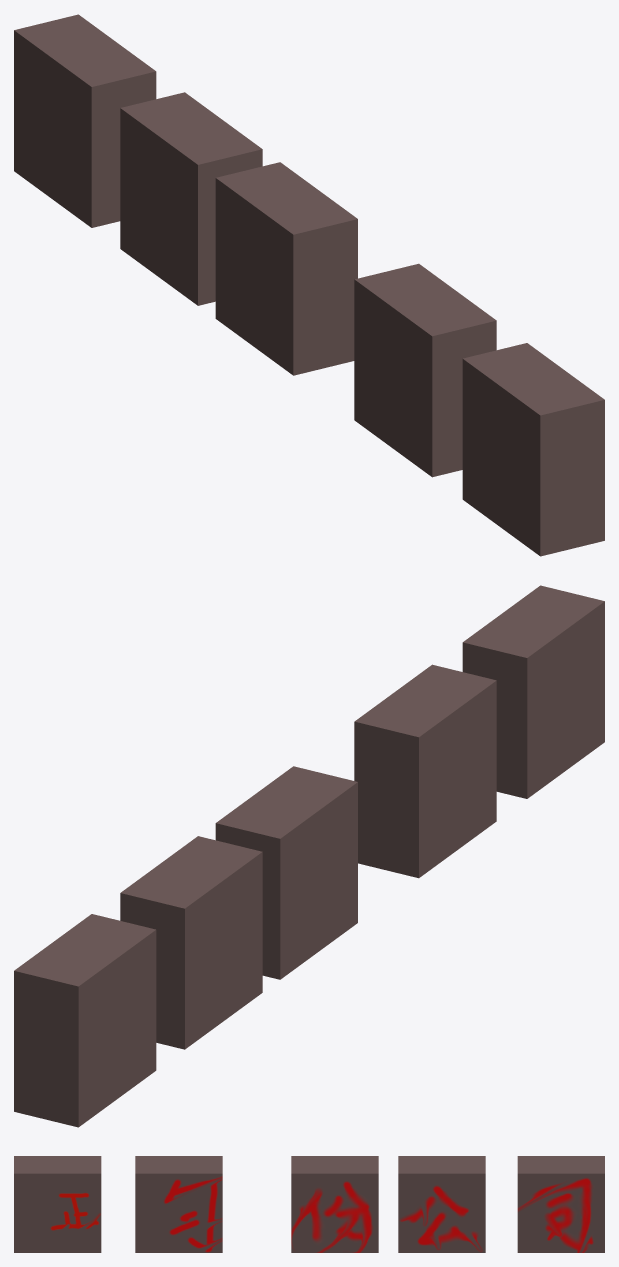
The model's file is sign3.fbx.
The picture shows the model from 3 angles, top to bottom: view 1: azimuth 30°, elevation 25°; view 2: azimuth 150°, elevation 25°; view 3: azimuth 270°, elevation 25°; orthographic projection. The views are drawn at different scales.
Parts seen in each view (by area): view 1: Cube, Cube.003, Cube.001, Cube.005, Cube.004; view 2: Cube.005, Cube.001, Cube, Cube.004, Cube.003; view 3: Cube, Cube.001, Cube.003, Cube.004, Cube.005.
Part boxes in pixels (x1,y1,x2,y2): Cube: (462, 343, 604, 556); Cube.003: (215, 162, 357, 375); Cube.001: (354, 263, 496, 477); Cube.005: (14, 14, 156, 227); Cube.004: (120, 92, 262, 305); Cube.005: (14, 914, 156, 1127); Cube.001: (354, 664, 496, 878); Cube: (462, 585, 604, 798); Cube.004: (120, 836, 262, 1049); Cube.003: (215, 766, 357, 979); Cube: (14, 1156, 101, 1252); Cube.001: (135, 1156, 222, 1252); Cube.003: (291, 1156, 378, 1252); Cube.004: (398, 1156, 485, 1252); Cube.005: (517, 1156, 604, 1252).
Bounding box in the file's own units: 93.73 × 196 × 1324.
